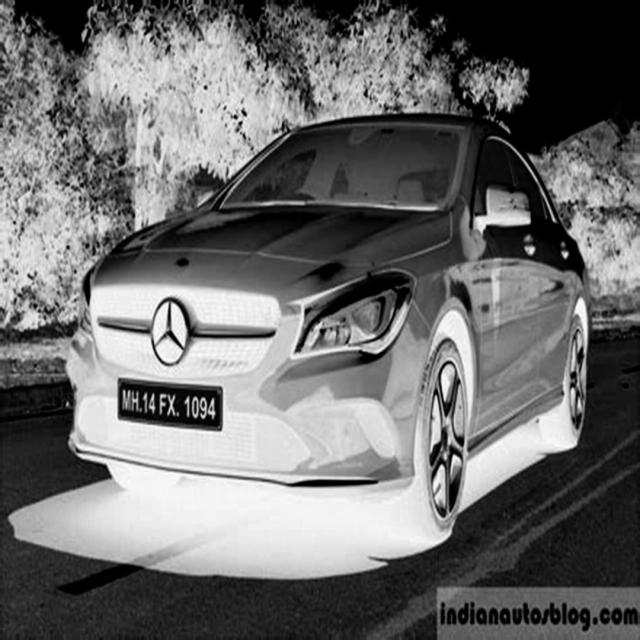Non_registered: (120, 379, 219, 428)
